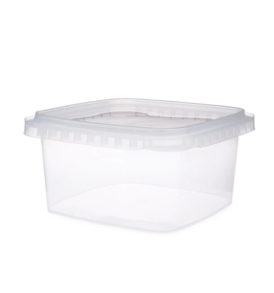PlasticBox: (20, 95, 257, 235)
